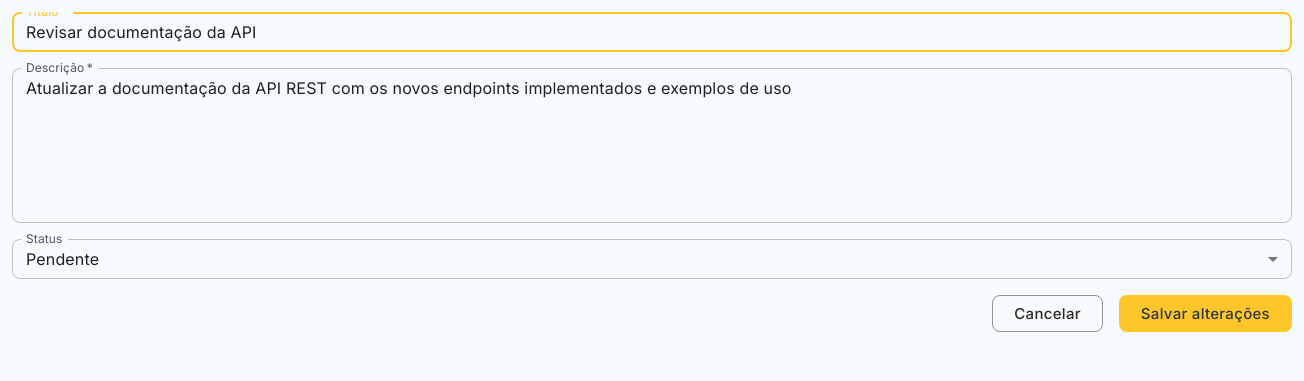
Test case: FormEditTask › should show error when title is empty
The width and height of the screenshot is (1304, 381).
Clear the field labelled "Título *" at [652, 32], box [12, 12, 1292, 52]
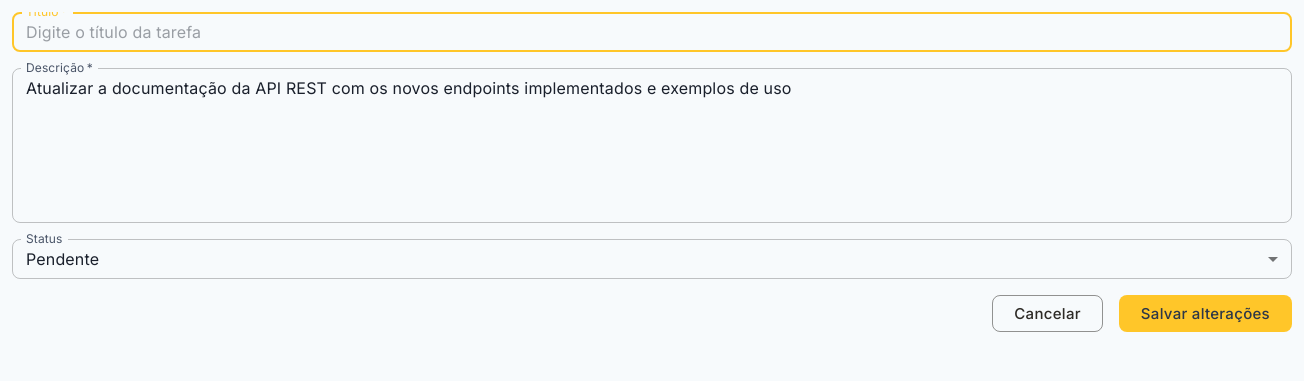
Press Tab
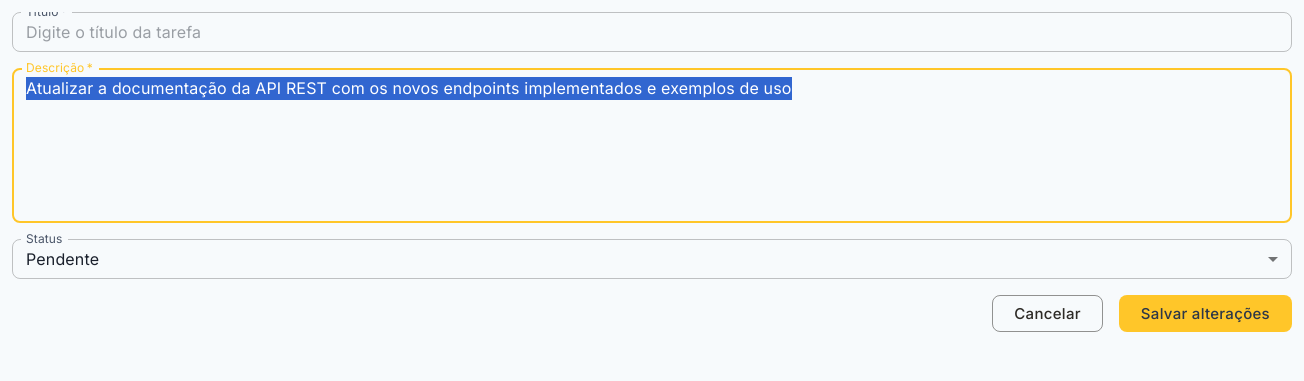
Click the button "Salvar alterações" at [1205, 314], box [1119, 295, 1292, 332]
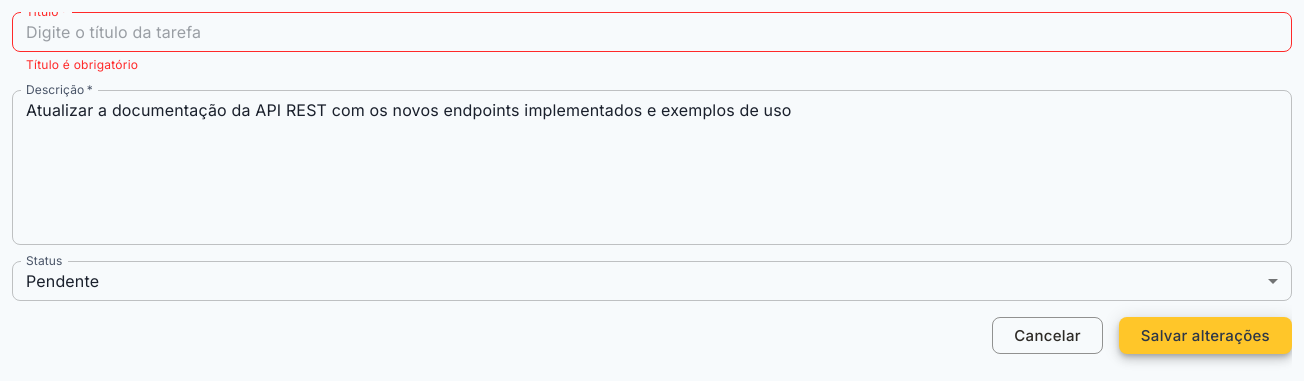
Now the text "Título é obrigatório" is shown, box [26, 57, 138, 72]
